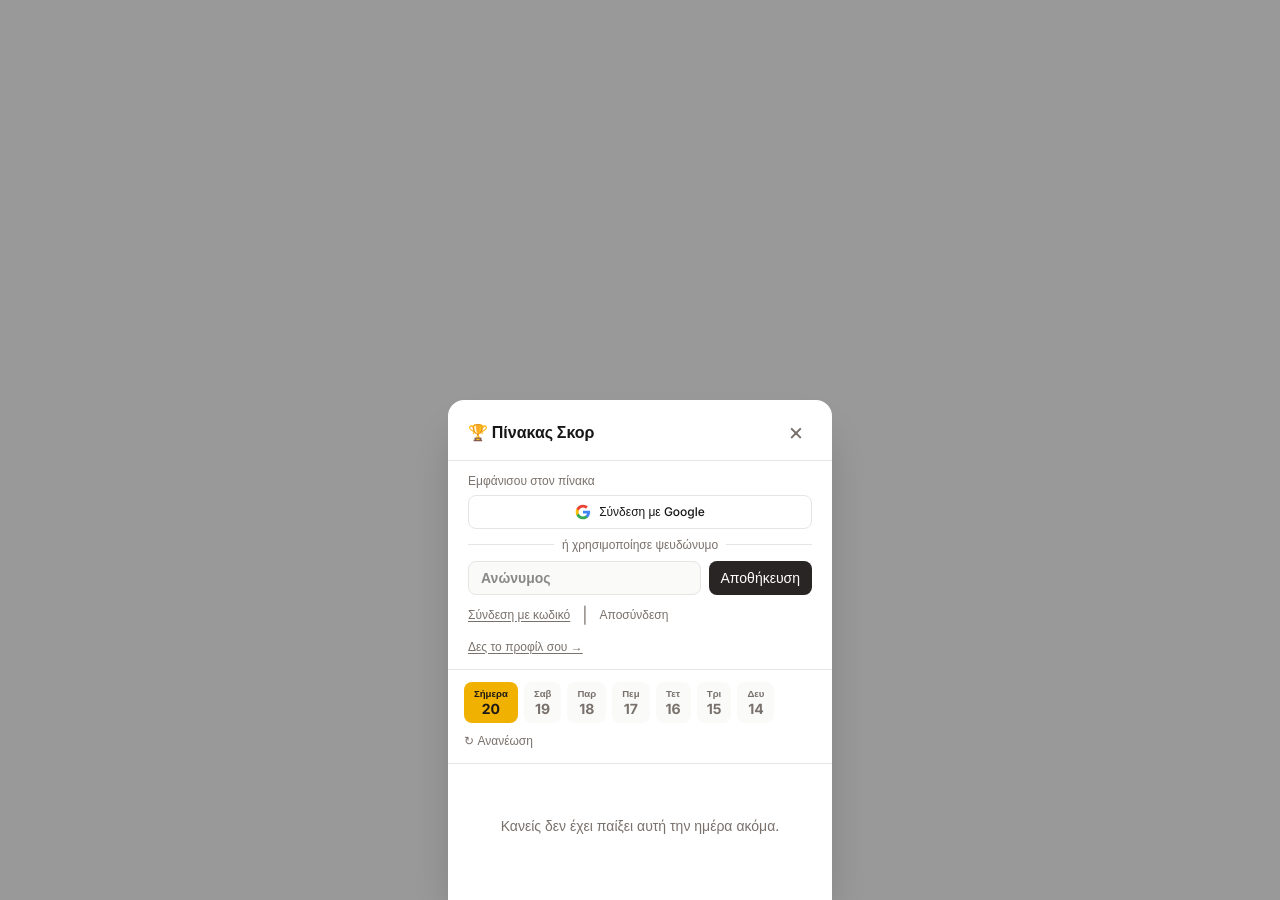
LeaderboardModal — play link › shows play link when a past pill is clicked (player is on today's puzzle)
Click the button with aria-label "2026-09-17" at point(631, 702), box [612,682,650,723]
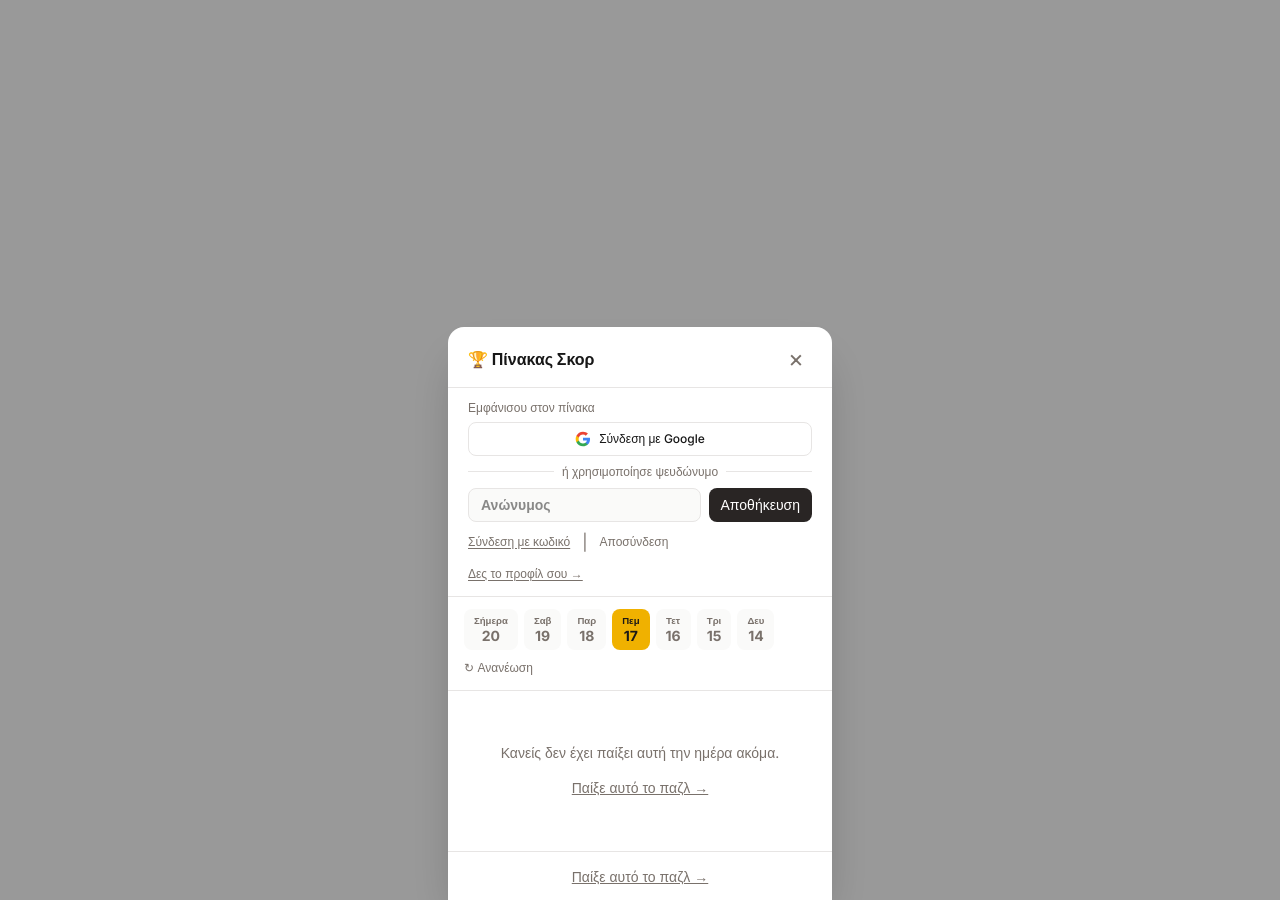
Result: the 1st link "Παίξε αυτό το παζλ →" is shown at [572,779,708,796]
